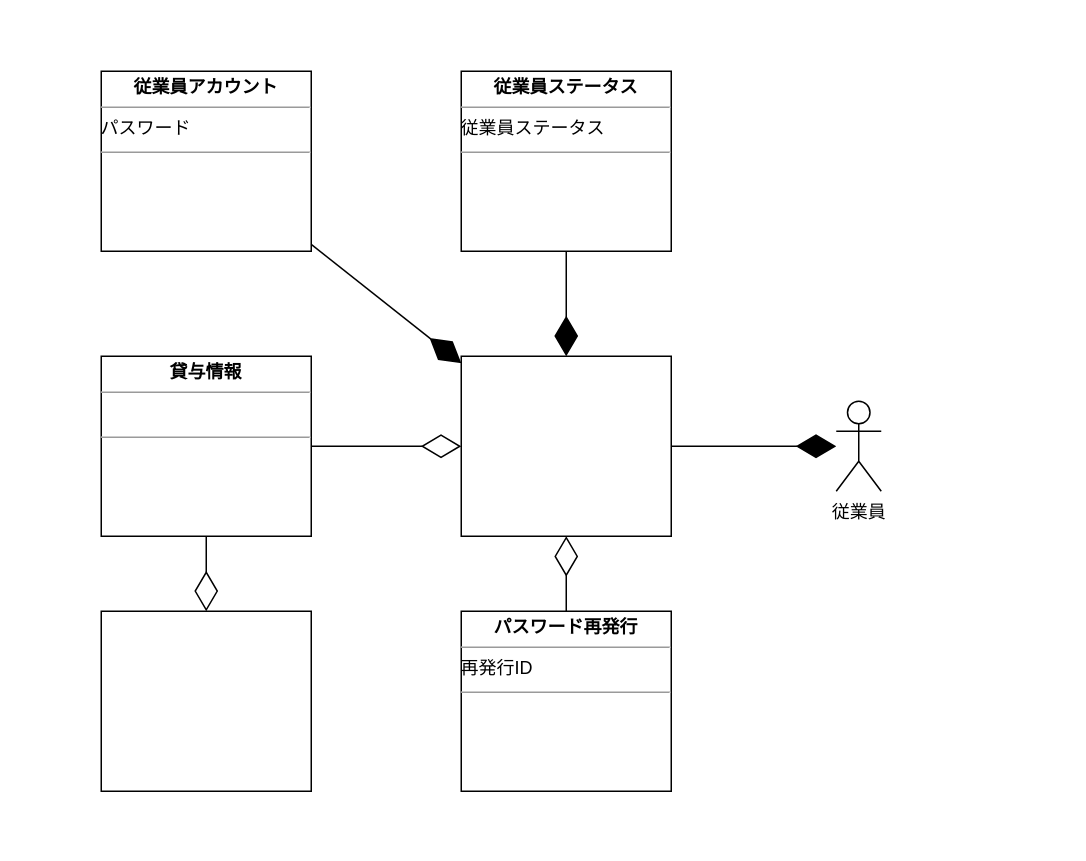
The diagram is 1086 pixels wide and 861 high, and some of its shapes have lost their labels. Here are the shapes that lost their labels. From the top down, the centre of each, then its label:
At (x=565, y=445): "従業員 従業員ID 従業員名".
At (x=205, y=700): "アカウント情報 アカウントID ログインID ログインパスワード".
